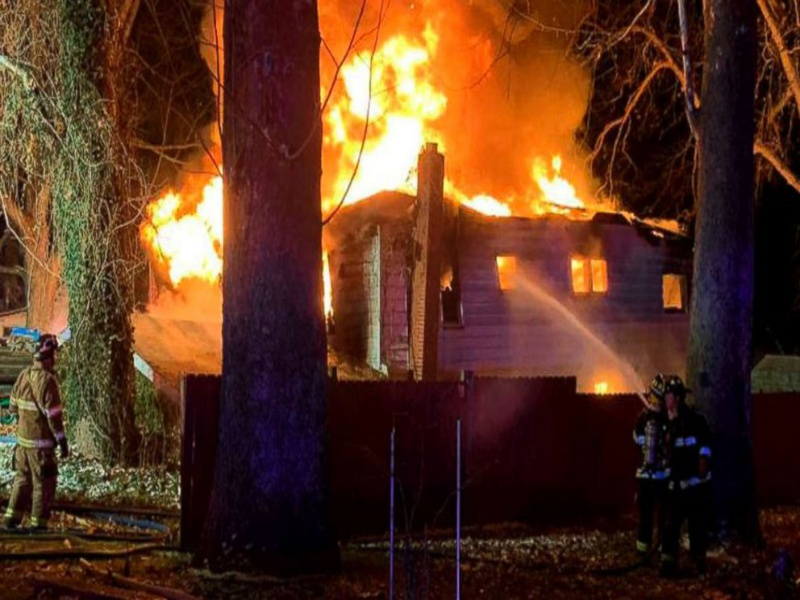fire: (334, 46, 456, 194), (141, 190, 224, 280), (458, 165, 584, 212)
